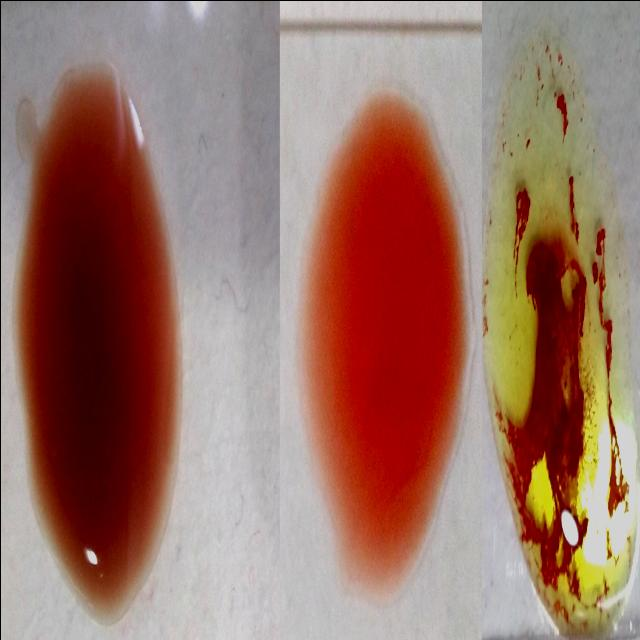B: (488, 51, 632, 633)
